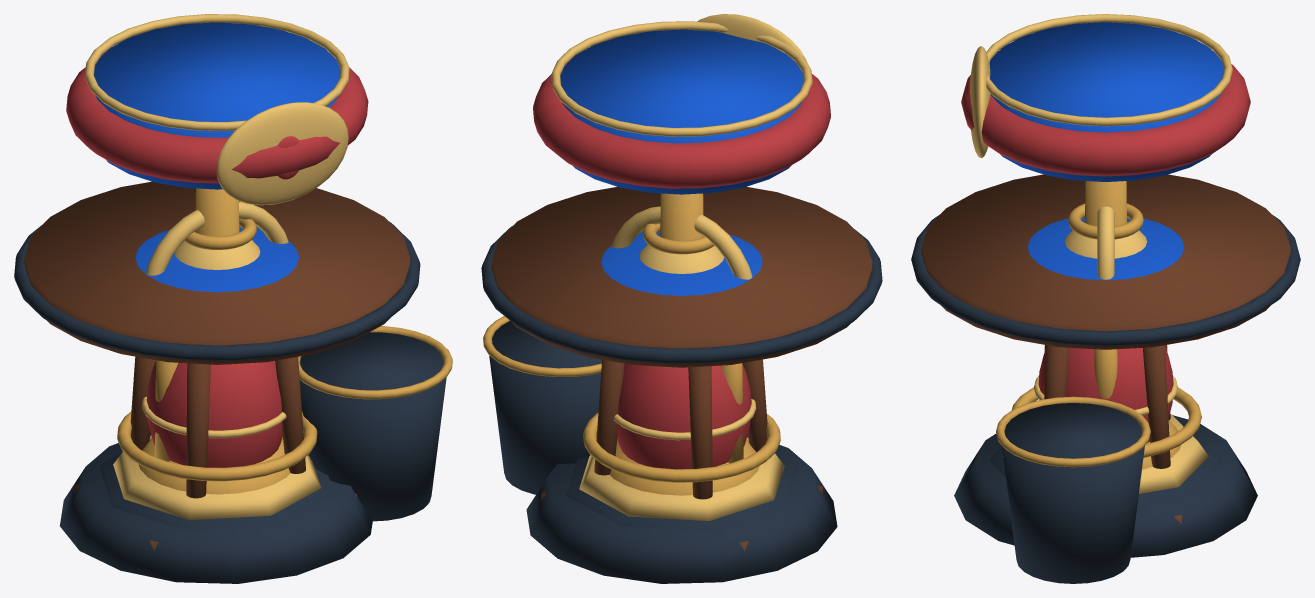
File: pulse-showcase-props.glb
3 renders of one model, left to right at view 1: azimuth 30°, elevation 25°; view 2: azimuth 150°, elevation 25°; view 3: azimuth 270°, elevation 25°, orthographic. The views are drawn at different scales.
Parts seen in each view (by area): view 1: SpeedBag_Drum, BeltStand_Cushion, Corner_Bucket, BeltStand_Base, BeltStand_Strap, SpeedBag_Belly, SpeedBag_Steel_Rim, BeltStand_Main_Plate, Trophy_Gold_Step, BeltStand_Side_Ring, Stool_Cushion, Stool_Foot_Ring (+12 smaller); view 2: SpeedBag_Drum, BeltStand_Cushion, BeltStand_Base, BeltStand_Strap, Corner_Bucket, SpeedBag_Belly, SpeedBag_Steel_Rim, Trophy_Gold_Step, BeltStand_Side_Ring, Stool_Cushion, Trophy_Pedestal_Base, Stool_Foot_Ring (+12 smaller); view 3: SpeedBag_Drum, Corner_Bucket, BeltStand_Cushion, BeltStand_Strap, BeltStand_Base, SpeedBag_Steel_Rim, BeltStand_Side_Ring, Stool_Cushion, SpeedBag_Belly, Corner_Bucket_Rim, Stool_Leg_0, Trophy_Gold_Step (+9 smaller).
Part boxes in pixels (<box>): SpeedBag_Drum: <box>24,181,410,364</box>; BeltStand_Cushion: <box>94,22,340,189</box>; Corner_Bucket: <box>299,332,446,521</box>; BeltStand_Base: <box>60,432,372,583</box>; BeltStand_Strap: <box>66,52,368,183</box>; SpeedBag_Belly: <box>146,361,282,467</box>; SpeedBag_Steel_Rim: <box>14,221,420,360</box>; BeltStand_Main_Plate: <box>216,102,348,205</box>; Trophy_Gold_Step: <box>113,435,321,520</box>; BeltStand_Side_Ring: <box>85,14,349,130</box>; Stool_Cushion: <box>135,226,298,292</box>; Stool_Foot_Ring: <box>117,411,317,481</box>; SpeedBag_Drum: <box>491,186,872,367</box>; BeltStand_Cushion: <box>560,29,803,194</box>; BeltStand_Base: <box>526,434,837,583</box>; BeltStand_Strap: <box>533,60,830,188</box>; Corner_Bucket: <box>489,320,601,494</box>; SpeedBag_Belly: <box>617,363,751,469</box>; SpeedBag_Steel_Rim: <box>481,226,882,363</box>; Trophy_Gold_Step: <box>579,437,784,520</box>; BeltStand_Side_Ring: <box>551,21,812,136</box>; Stool_Cushion: <box>601,231,762,295</box>; Trophy_Pedestal_Base: <box>566,454,797,531</box>; Stool_Foot_Ring: <box>583,412,780,482</box>; SpeedBag_Drum: <box>921,174,1290,349</box>; Corner_Bucket: <box>1002,403,1144,583</box>; BeltStand_Cushion: <box>989,22,1224,181</box>; BeltStand_Strap: <box>961,50,1250,176</box>; BeltStand_Base: <box>954,415,1257,557</box>; SpeedBag_Steel_Rim: <box>911,215,1300,346</box>; BeltStand_Side_Ring: <box>986,14,1232,126</box>; Stool_Cushion: <box>1027,217,1184,280</box>; SpeedBag_Belly: <box>1038,347,1173,442</box>; Corner_Bucket_Rim: <box>996,396,1150,467</box>; Stool_Leg_0: <box>1143,345,1170,468</box>; Trophy_Gold_Step: <box>1003,414,1208,493</box>.
Size of the model in its own units: 0.782 by 0.8956 by 0.718.
